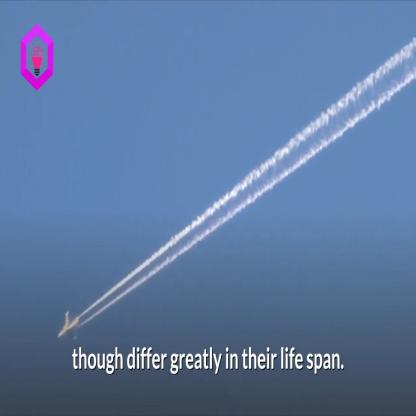plane: (57, 305, 84, 347)
